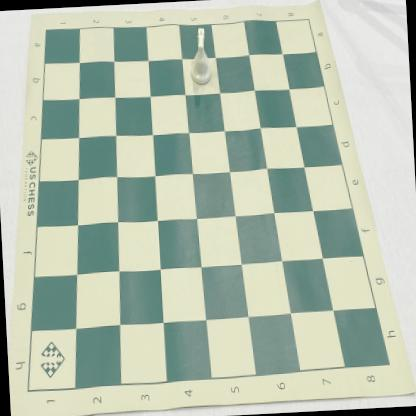white-knight: (188, 26, 212, 86)
